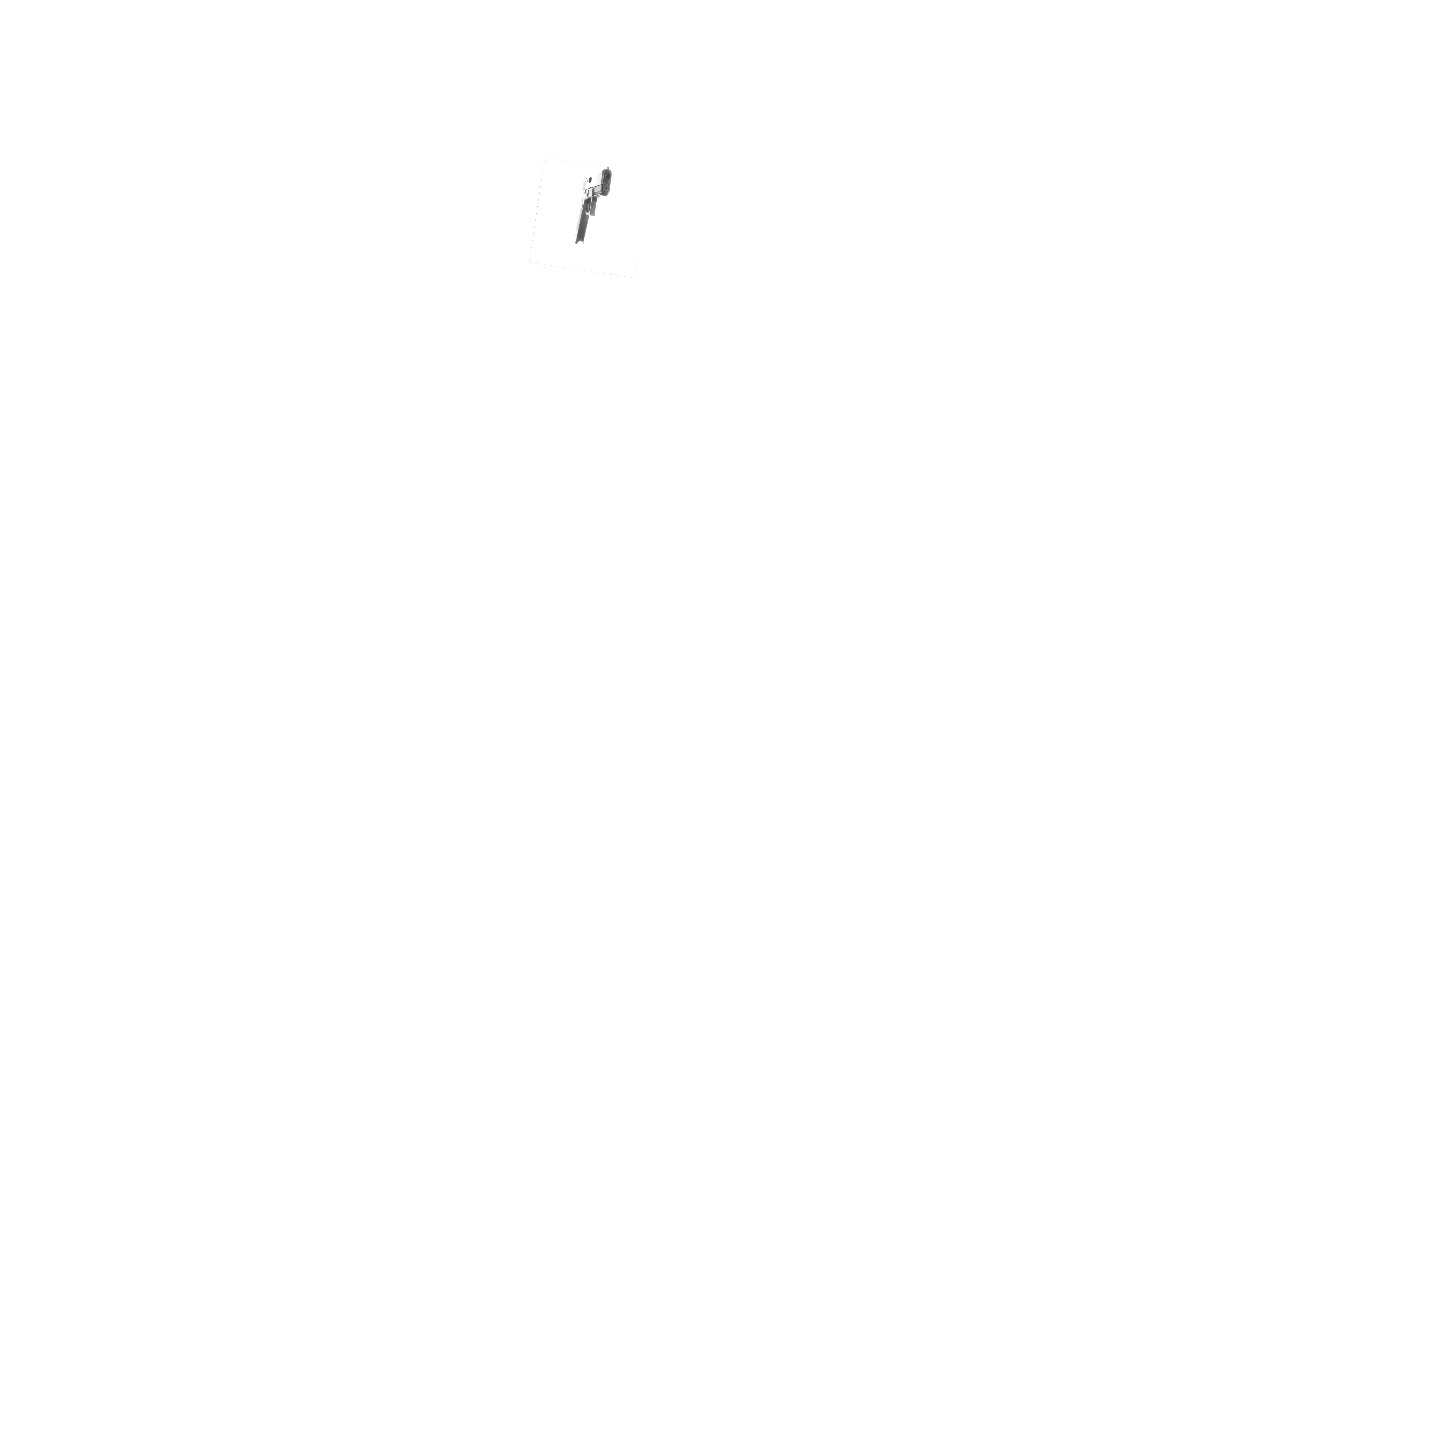gun: (568, 165, 615, 245)
